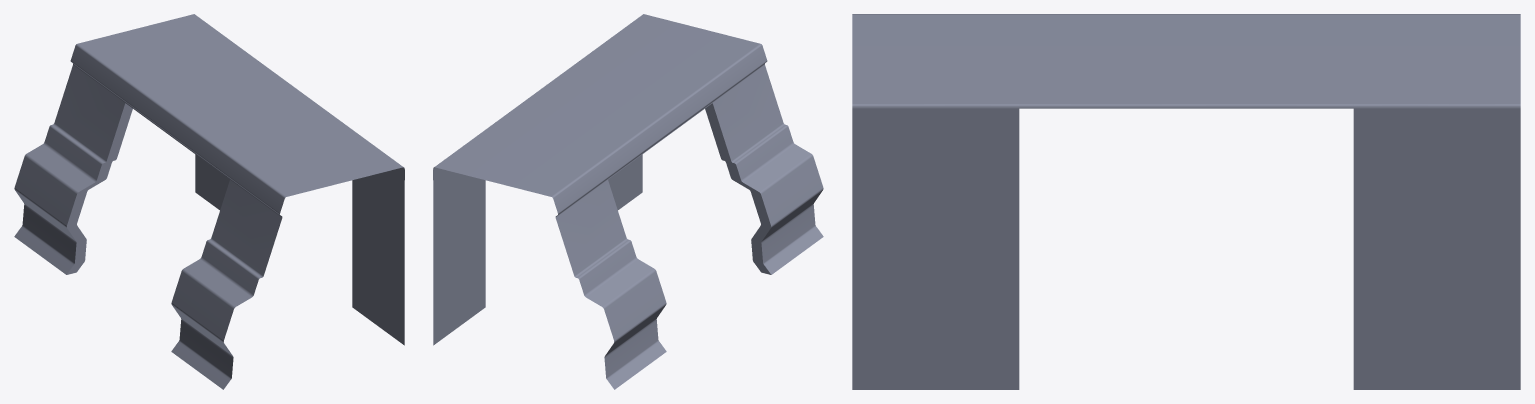
File: Doorway1TEST.fbx
The picture shows the model from 3 angles, left to right: view 1: azimuth 30°, elevation 25°; view 2: azimuth 150°, elevation 25°; view 3: azimuth 270°, elevation 25°; orthographic projection. The views are drawn at different scales.
Visible parts, largest first — view 1: Doorway5; view 2: Doorway5; view 3: Doorway5.
Boxes of the visible parts, x1,y1,x2,y2 form: Doorway5: [14, 14, 404, 389]; Doorway5: [433, 14, 823, 389]; Doorway5: [852, 14, 1520, 389].
Size of the model in its own units: 1 by 0.9425 by 2.
